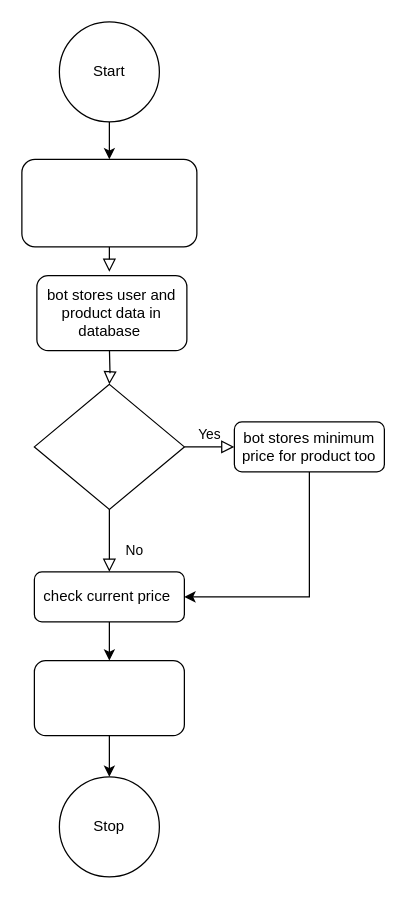
Some shapes in this 406 by 899 pixel diagram are drawn without their labels. The centre of each missing label's shape, as x and y in pixels:
send test message to user: (x=108, y=697)
user sends price track message to bot with product link: (x=109, y=202)
user specified minimum price?: (x=108, y=446)
